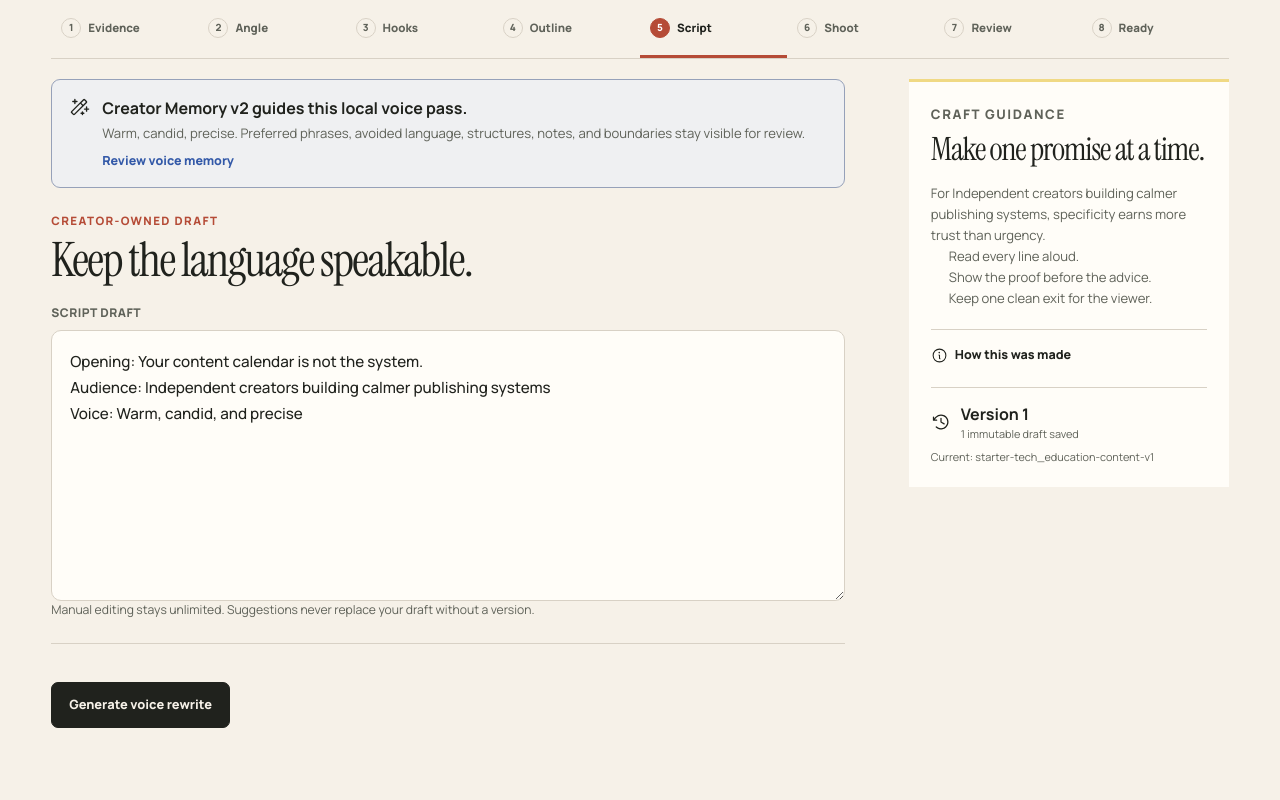
Test: content workshop › previews a Creator Memory rewrite before saving exactly one provenance-bearing version
(page scrolled)
Expected: the text "Creator Memory v2 guides this local voice pass." is shown, [102,97,467,119]
Click the button "Generate voice rewrite": point(141, 705) [51,682,230,728]
(page scrolled)
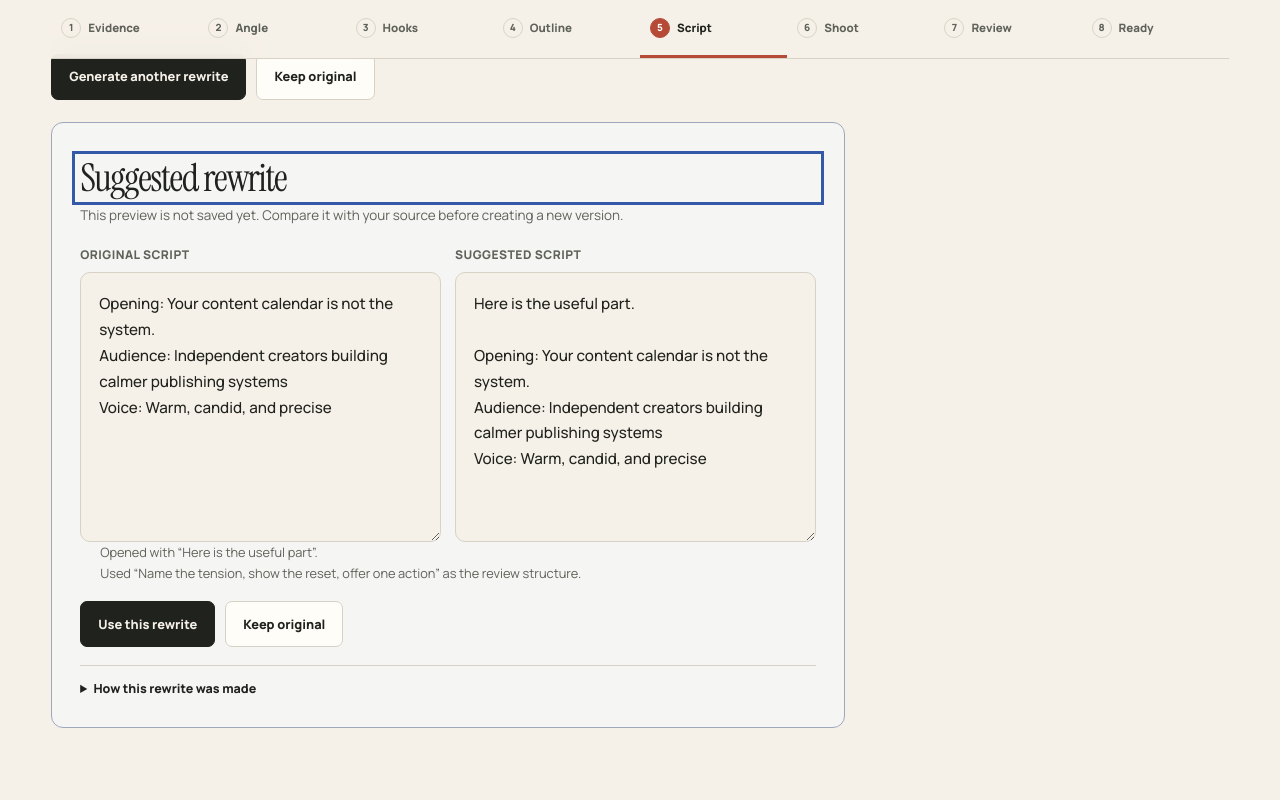
Expected: the heading "Suggested rewrite" is shown, [80,153,286,203]
Click the button "Use this rewrite": point(148, 624) [80,601,215,647]
(page scrolled)
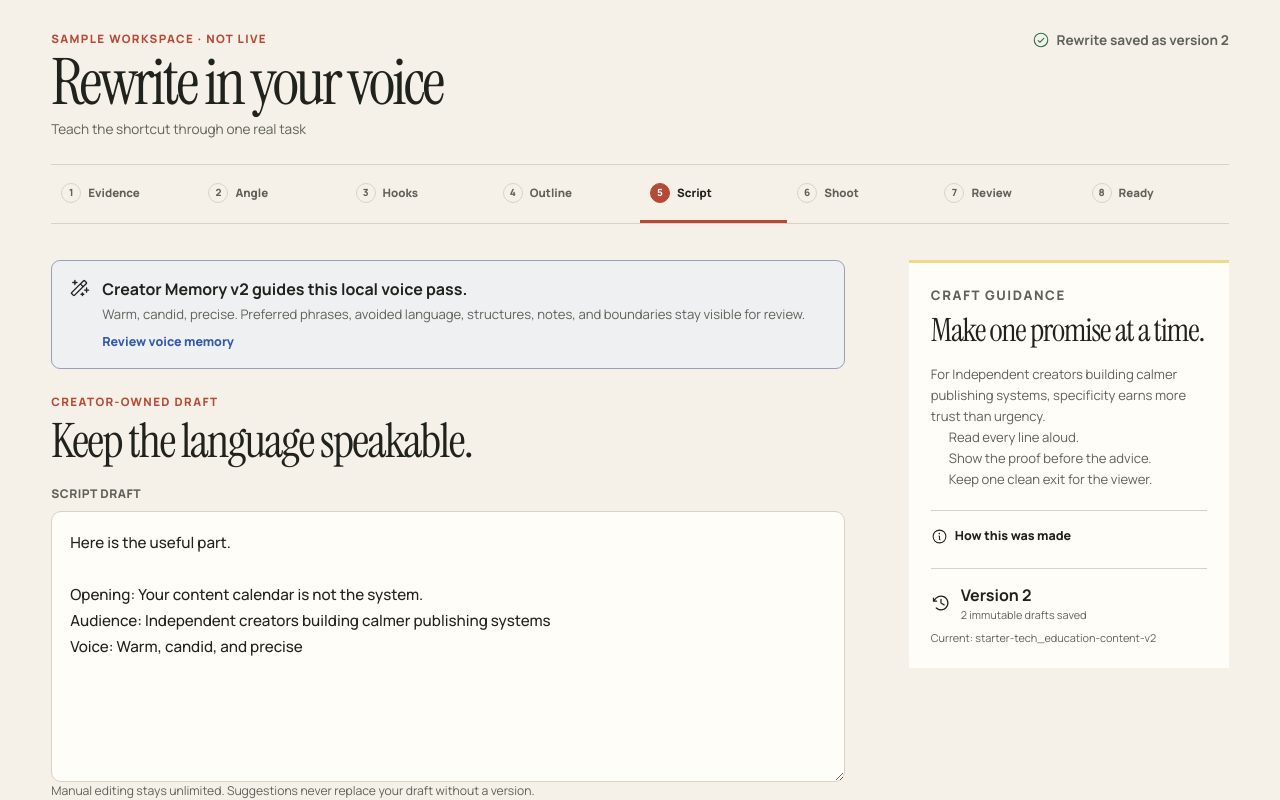
Expected: the text "Rewrite saved as version 2" is shown, [1056,30,1229,50]
